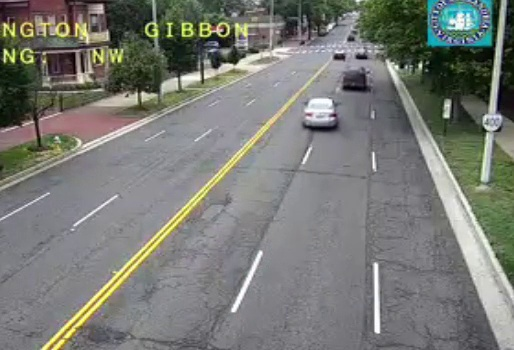car: (302, 98, 337, 127), (341, 66, 367, 90)
